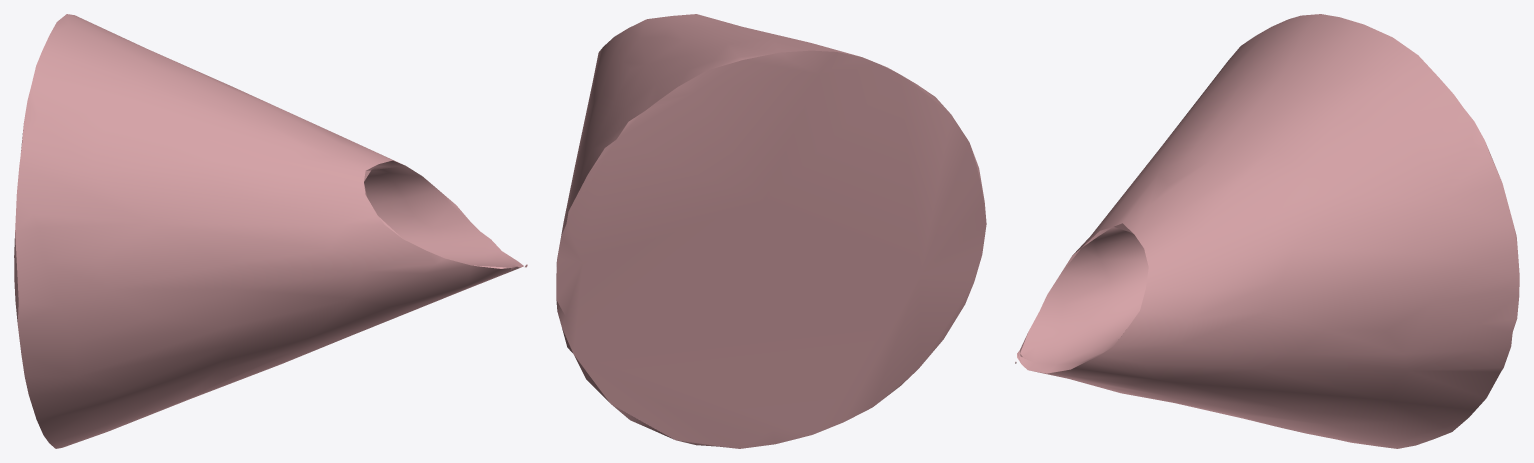
Rendered from fma77732-r_mm995m.glb.
The picture shows the model from 3 angles, left to right: view 1: azimuth 30°, elevation 25°; view 2: azimuth 150°, elevation 25°; view 3: azimuth 270°, elevation 25°; orthographic projection. The views are drawn at different scales.
Parts seen in each view (by area): view 1: FMA77732-R_MM995M; view 2: FMA77732-R_MM995M; view 3: FMA77732-R_MM995M.
Part boxes in pixels (x1=…): FMA77732-R_MM995M: x1=14, y1=14, x2=527, y2=448; FMA77732-R_MM995M: x1=556, y1=14, x2=986, y2=448; FMA77732-R_MM995M: x1=1015, y1=14, x2=1519, y2=448.
Bounding box in the file's own units: 0.00207 × 0.00181 × 0.00206.
